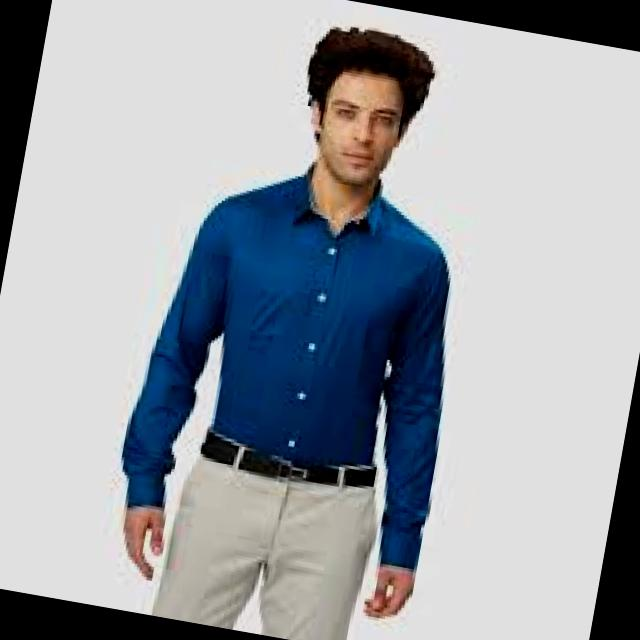face: (310, 71, 403, 188)
lower-wear: (151, 455, 377, 639)
top-wear: (120, 162, 449, 569)
